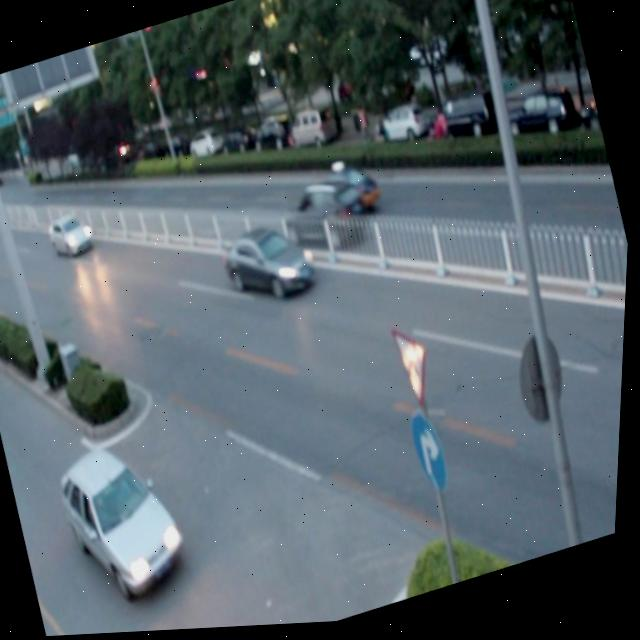car: (51, 424, 200, 608), (218, 215, 322, 315), (283, 181, 372, 266), (306, 159, 386, 230), (45, 204, 101, 263)
